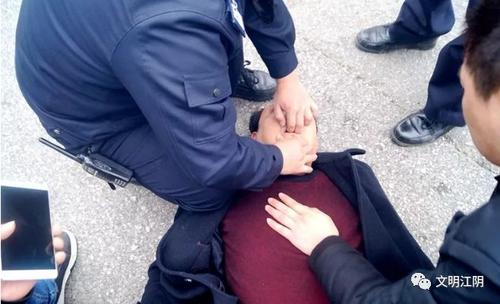fall: (52, 83, 449, 304)
